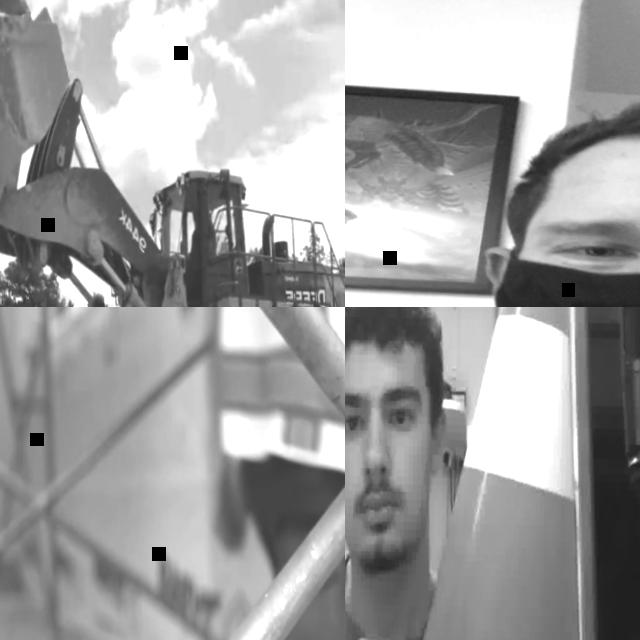NO-Hardhat: (525, 93, 640, 208), (345, 307, 433, 376)
NO-Mask: (345, 476, 418, 568)
NO-Safety Vest: (345, 575, 432, 640)
Person: (345, 307, 630, 640), (345, 87, 640, 307), (199, 307, 345, 640), (185, 207, 214, 289)
Safety Cone: (371, 307, 640, 640)
Safety Vest: (215, 307, 345, 469)
vehicle: (0, 0, 345, 307)
